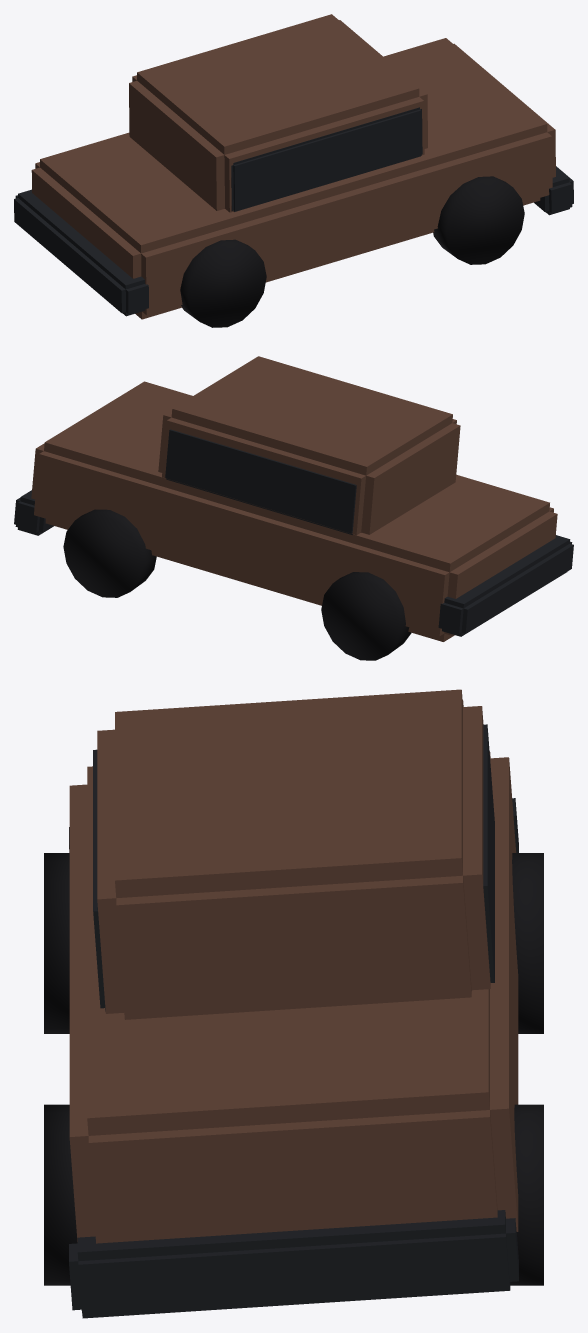
Rendered from wrecked_car.glb.
3 views of the same model, one above another, from view 1: azimuth 30°, elevation 25°; view 2: azimuth 150°, elevation 25°; view 3: azimuth 270°, elevation 25° (orthographic). The views are drawn at different scales.
Parts seen in each view (by area): view 1: CarLowerBody, CarCabin, CarInterior, Wheel_1.25_-0.92, Wheel_-1.25_-0.92, CarBumperR, CarBumperF; view 2: CarLowerBody, CarCabin, CarInterior, Wheel_1.25_0.92, Wheel_-1.25_0.92, CarBumperR, CarBumperF; view 3: CarCabin, CarLowerBody, CarBumperF, Wheel_-1.25_0.92, Wheel_1.25_-0.92, Wheel_1.25_0.92, Wheel_-1.25_-0.92, CarInterior.
Part boxes in pixels (bbox=[...]): CarLowerBody: bbox=[31, 38, 555, 319]; CarCabin: bbox=[129, 14, 427, 212]; CarInterior: bbox=[231, 107, 422, 211]; Wheel_1.25_-0.92: bbox=[433, 176, 524, 264]; Wheel_-1.25_-0.92: bbox=[180, 239, 266, 327]; CarBumperR: bbox=[14, 189, 148, 316]; CarBumperF: bbox=[534, 166, 573, 215]; CarLowerBody: bbox=[31, 381, 557, 641]; CarCabin: bbox=[158, 356, 460, 535]; CarInterior: bbox=[165, 429, 356, 534]; Wheel_1.25_0.92: bbox=[63, 509, 156, 597]; Wheel_-1.25_0.92: bbox=[321, 572, 411, 660]; CarBumperR: bbox=[438, 535, 573, 636]; CarBumperF: bbox=[14, 490, 53, 535]; CarCabin: bbox=[97, 689, 490, 1019]; CarLowerBody: bbox=[69, 751, 518, 1243]; CarBumperF: bbox=[69, 1210, 518, 1318]; Wheel_-1.25_0.92: bbox=[512, 853, 543, 1033]; Wheel_1.25_-0.92: bbox=[44, 1104, 77, 1285]; Wheel_1.25_0.92: bbox=[510, 1104, 543, 1285]; Wheel_-1.25_-0.92: bbox=[44, 853, 69, 1033]; CarInterior: bbox=[93, 724, 494, 1011].
Size of the model in its own units: 4.4 by 1.72 by 2.1.
